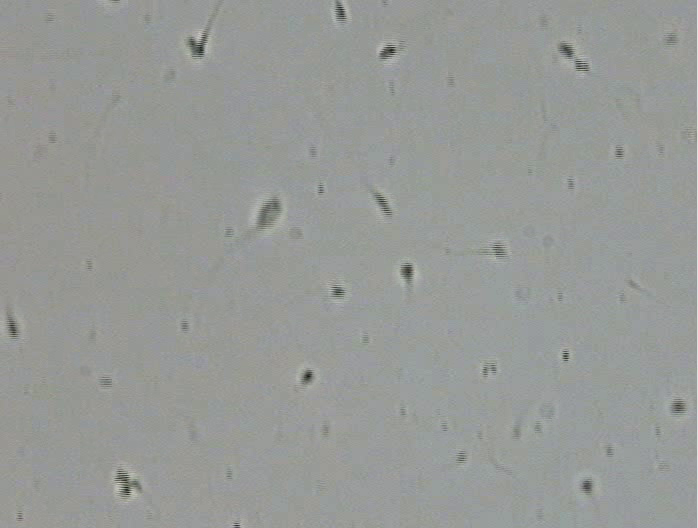S: (255, 196, 283, 230), (114, 467, 132, 500), (185, 35, 208, 59), (373, 191, 392, 217), (379, 43, 398, 60), (6, 316, 19, 340), (492, 242, 509, 259), (558, 41, 574, 59), (334, 1, 347, 23), (400, 262, 414, 282), (670, 398, 686, 415), (330, 284, 346, 299), (580, 477, 593, 495), (301, 368, 314, 384), (575, 59, 590, 72)
